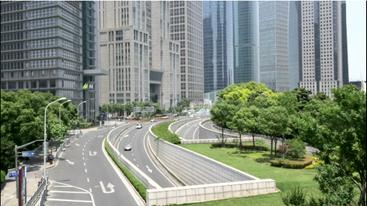car: (117, 141, 136, 156), (134, 122, 144, 131)
